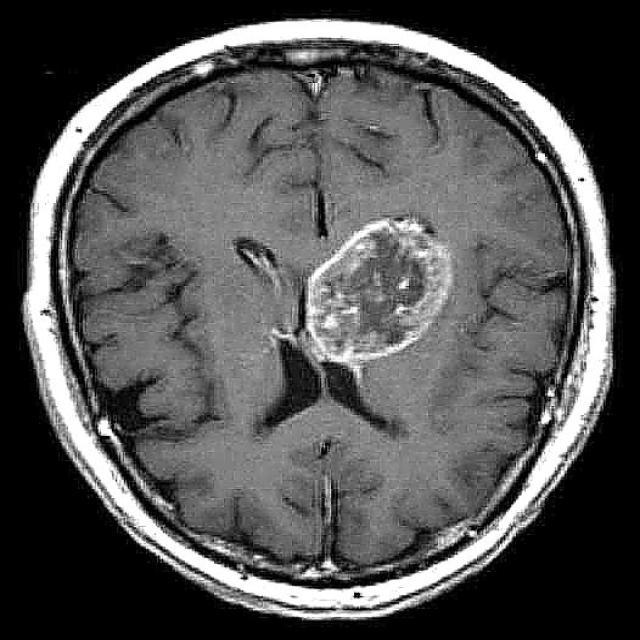Tumor: (300, 200, 452, 375)
